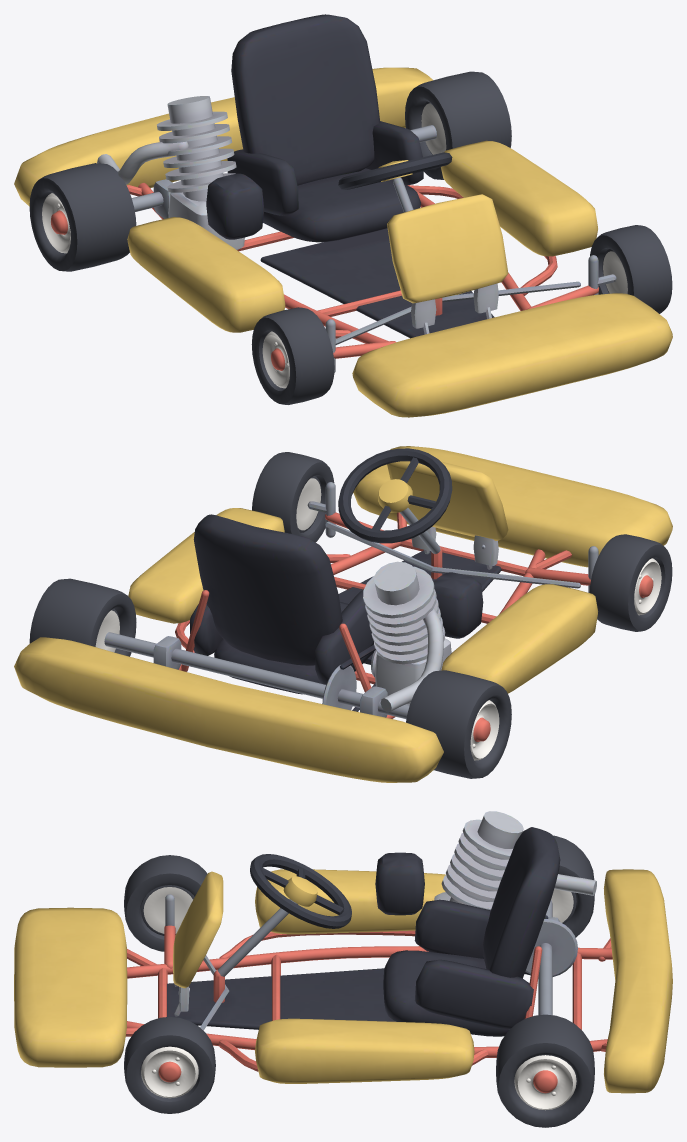
Rendered from go-kart-grab3d.glb.
3 views of the same model, one above another, from view 1: azimuth 30°, elevation 25°; view 2: azimuth 150°, elevation 25°; view 3: azimuth 270°, elevation 25° (orthographic).
Parts seen in each view (by area): view 1: go-kart_body, go-kart_wheel_rear_r, go-kart_wheel_rear_l, go-kart_wheel_front_r, go-kart_wheel_front_l, go-kart_steering_wheel; view 2: go-kart_body, go-kart_wheel_rear_r, go-kart_wheel_front_r, go-kart_wheel_rear_l, go-kart_steering_wheel, go-kart_wheel_front_l; view 3: go-kart_body, go-kart_wheel_rear_l, go-kart_wheel_front_l, go-kart_wheel_front_r, go-kart_steering_wheel, go-kart_wheel_rear_r.
Boxes of the visible parts, bbox=[...] form: go-kart_body: bbox=[14, 14, 672, 417]; go-kart_wheel_rear_r: bbox=[29, 163, 136, 271]; go-kart_wheel_rear_l: bbox=[405, 71, 511, 179]; go-kart_wheel_front_r: bbox=[251, 307, 334, 404]; go-kart_wheel_front_l: bbox=[590, 225, 672, 313]; go-kart_steering_wheel: bbox=[338, 152, 452, 189]; go-kart_body: bbox=[14, 446, 672, 782]; go-kart_wheel_rear_r: bbox=[406, 670, 511, 778]; go-kart_wheel_front_r: bbox=[589, 534, 672, 631]; go-kart_wheel_rear_l: bbox=[29, 578, 136, 656]; go-kart_steering_wheel: bbox=[338, 448, 452, 543]; go-kart_wheel_front_l: bbox=[252, 452, 334, 542]; go-kart_body: bbox=[14, 811, 672, 1093]; go-kart_wheel_rear_l: bbox=[496, 1014, 594, 1127]; go-kart_wheel_front_l: bbox=[124, 1016, 215, 1113]; go-kart_wheel_front_r: bbox=[124, 855, 207, 951]; go-kart_steering_wheel: bbox=[250, 854, 351, 928]; go-kart_wheel_rear_r: bbox=[551, 835, 594, 937].
Size of the model in its own units: 1.4 by 0.5848 by 1.86.
15 materials, 1 textured.
